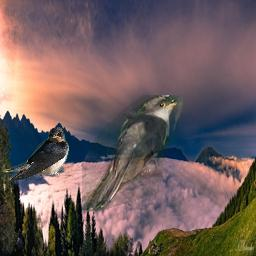Cuckoo: (82, 95, 183, 214)
Swallow: (2, 127, 69, 181)
